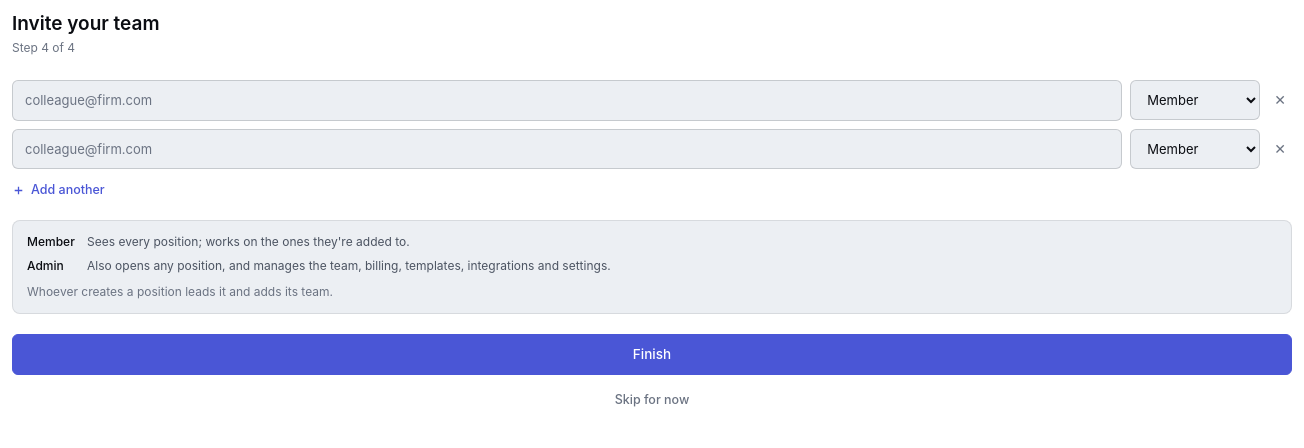
Test: InviteTeamForm › refuses an address typed twice rather than sending it twice
Type "a@x.com" into the field named "Colleague's email".
click(567, 100); type("a@x.com")  # box 12,80 -> 1122,121
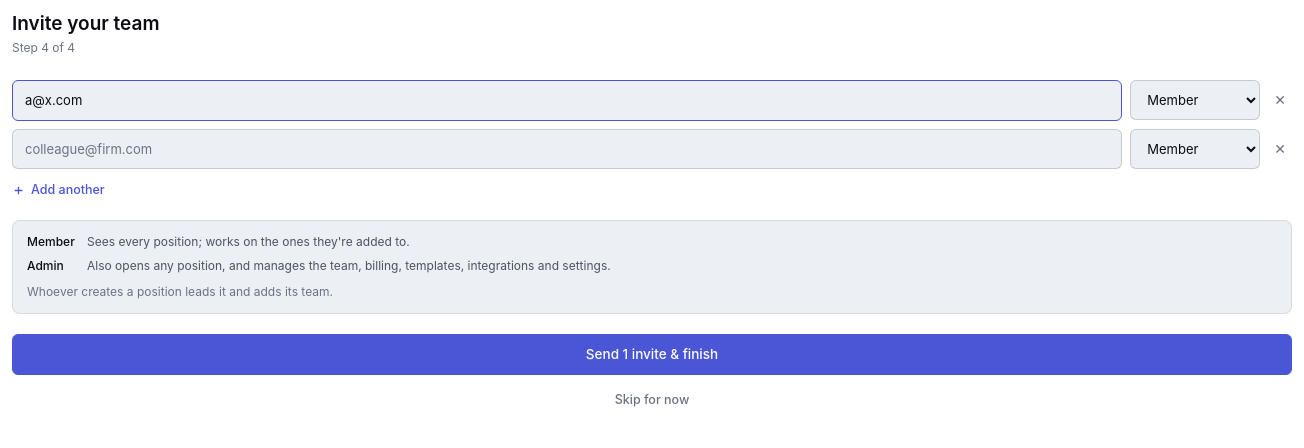
Type " A@x.com" into the field named "Colleague's email".
click(567, 149); type(" A@x.com")  # box 12,129 -> 1122,169
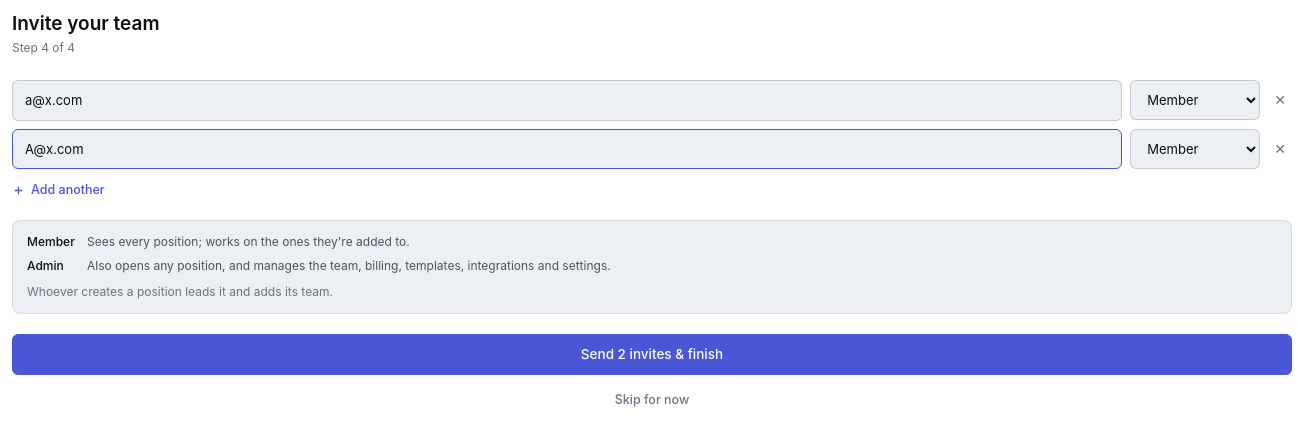
Click the button "Send 2 invites & finish".
click(652, 354)  # box 12,334 -> 1292,375
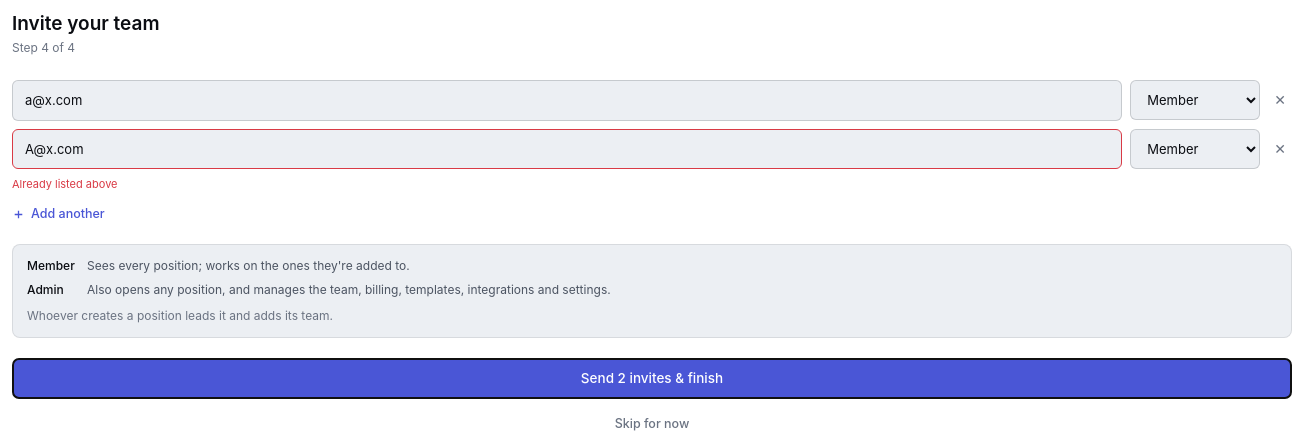
Expected: the text "Already listed above" is shown, 12,177 -> 118,191
